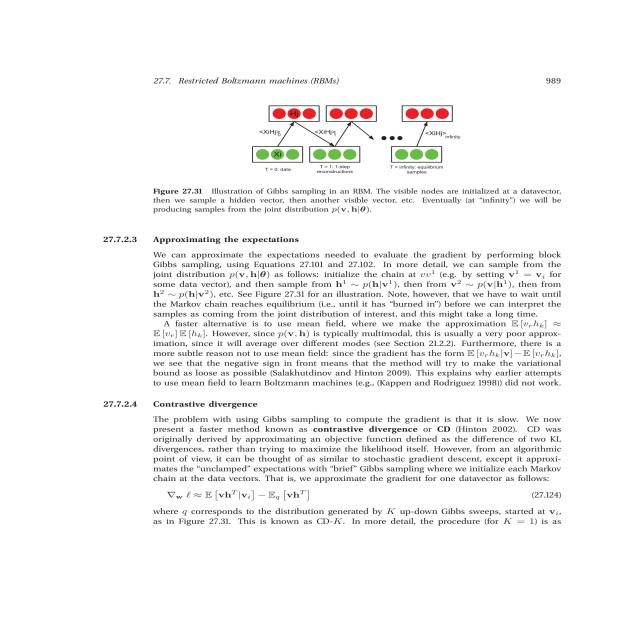diagram: (111, 89, 596, 231)
